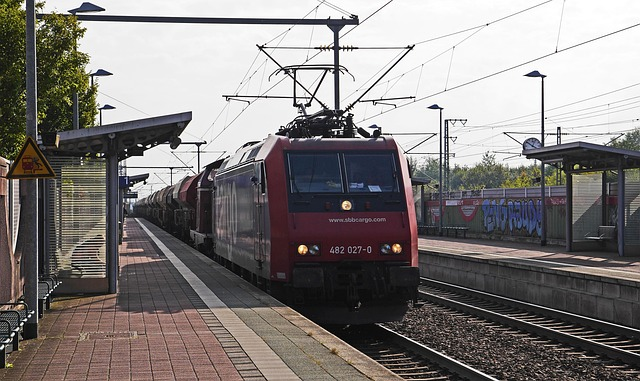train1: (131, 120, 424, 324)
